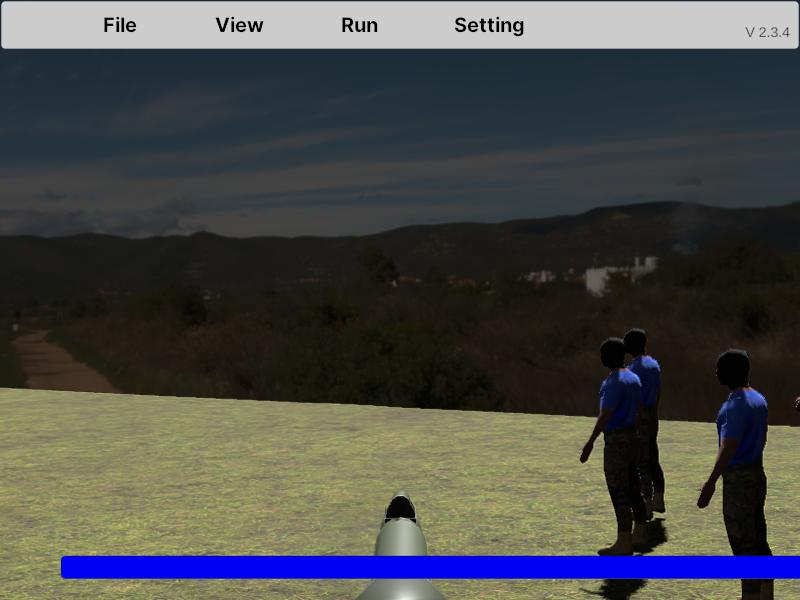Human: (698, 345, 773, 600), (580, 334, 645, 560), (593, 326, 665, 525)
